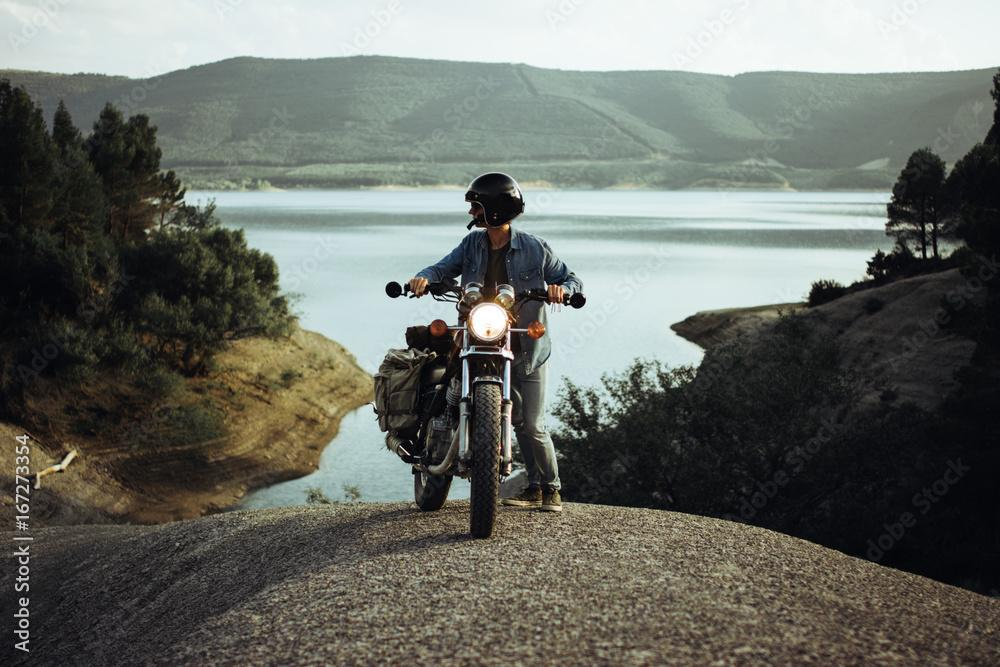helmet: (464, 171, 526, 232)
